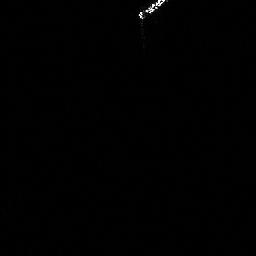ship: (135, 1, 168, 22)
